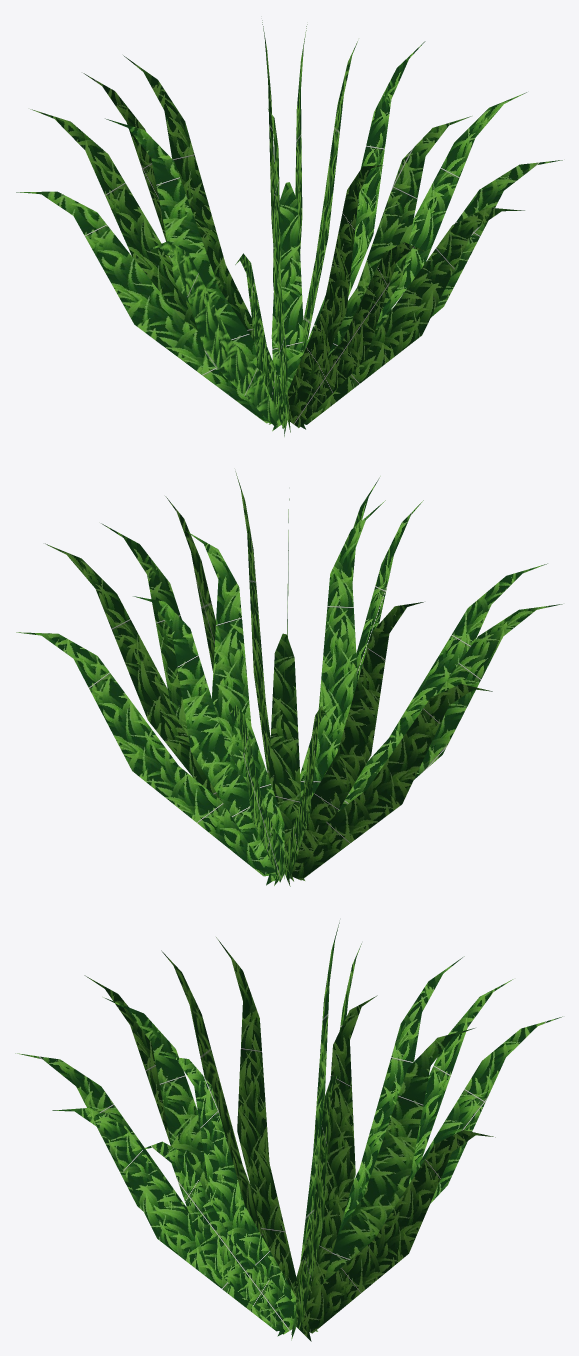
Rendered from pasto.obj.
The picture shows the model from 3 angles, top to bottom: view 1: azimuth 30°, elevation 25°; view 2: azimuth 150°, elevation 25°; view 3: azimuth 270°, elevation 25°; orthographic projection.
Visible parts, largest first — view 1: Pasto_Plane.017; view 2: Pasto_Plane.017; view 3: Pasto_Plane.017.
Boxes of the visible parts, x1=… form: Pasto_Plane.017: x1=16, y1=20, x2=562, y2=436; Pasto_Plane.017: x1=16, y1=471, x2=562, y2=886; Pasto_Plane.017: x1=15, y1=922, x2=562, y2=1341.
Bounding box in the file's own units: 1.98 × 1.44 × 1.93.
1 material, 1 textured.
